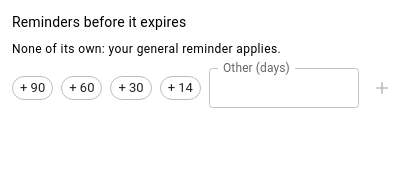
Test: ReminderDaysField › adds lead times longest first and drops duplicates
What coordinates should you click on to do the following:
click the button "+ 30"
I would click on:
 (131, 88)
Its box is [110,76,152,100].
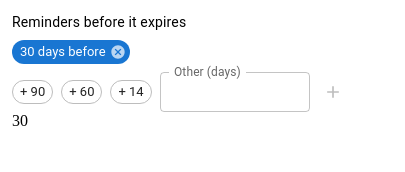
What coordinates should you click on to do the following:
click the button "+ 90"
I would click on:
 (33, 92)
Its box is [12,80,53,104].
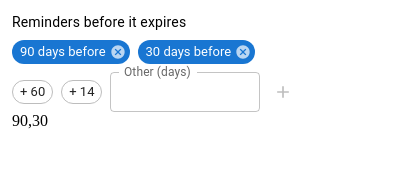
Result: the text with test id "value" reads "90,30" at [12,112,48,129]
Result: the button "+ 90" is gone
